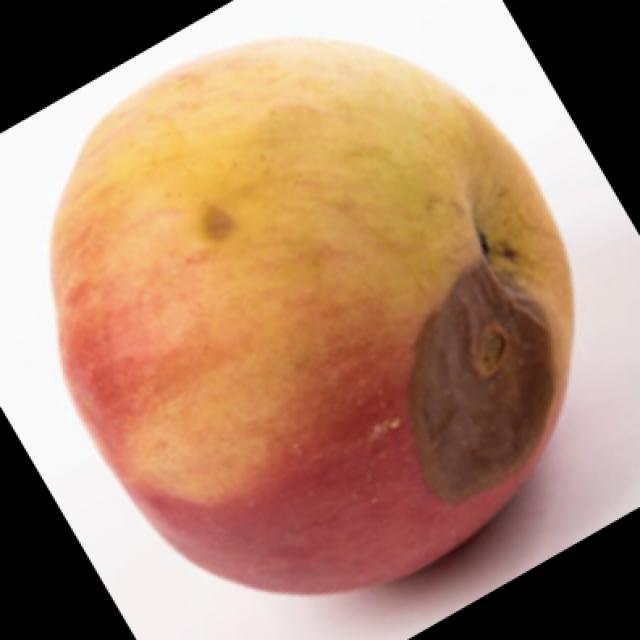Rotten: (83, 50, 565, 608)
